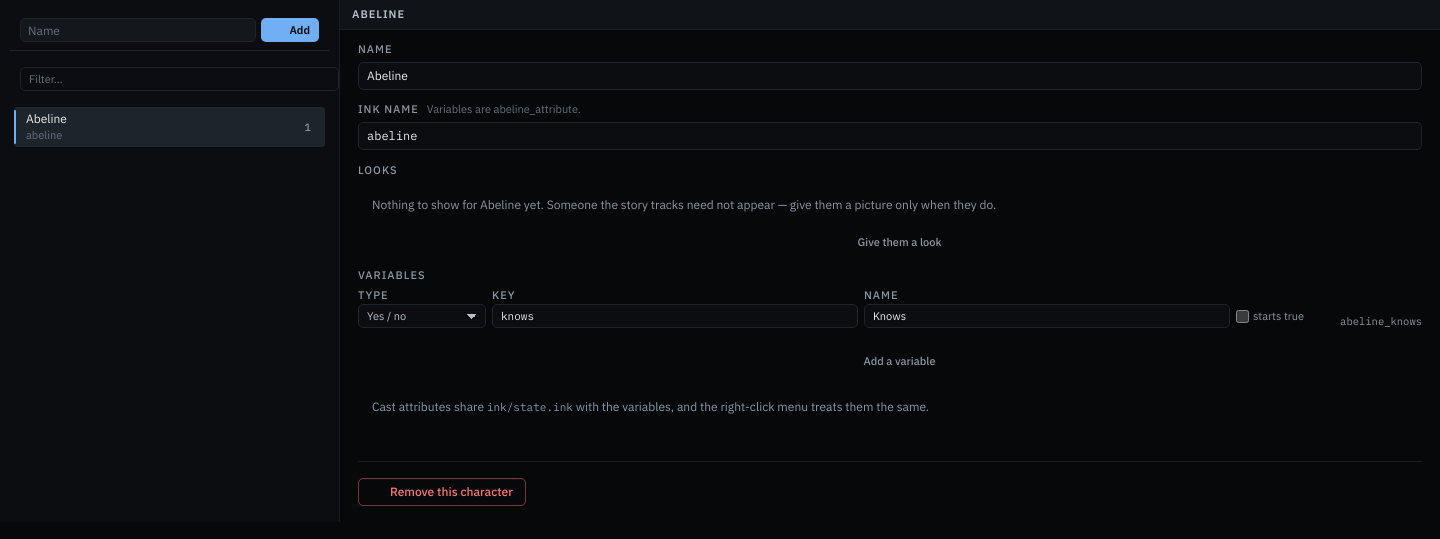
Test: CastPanel › shows the ink variable each attribute becomes, and follows a rename
Replace the text in the field showing "abeline" with "wren" at (890, 136), box x1=358 y1=122 x2=1422 y2=150
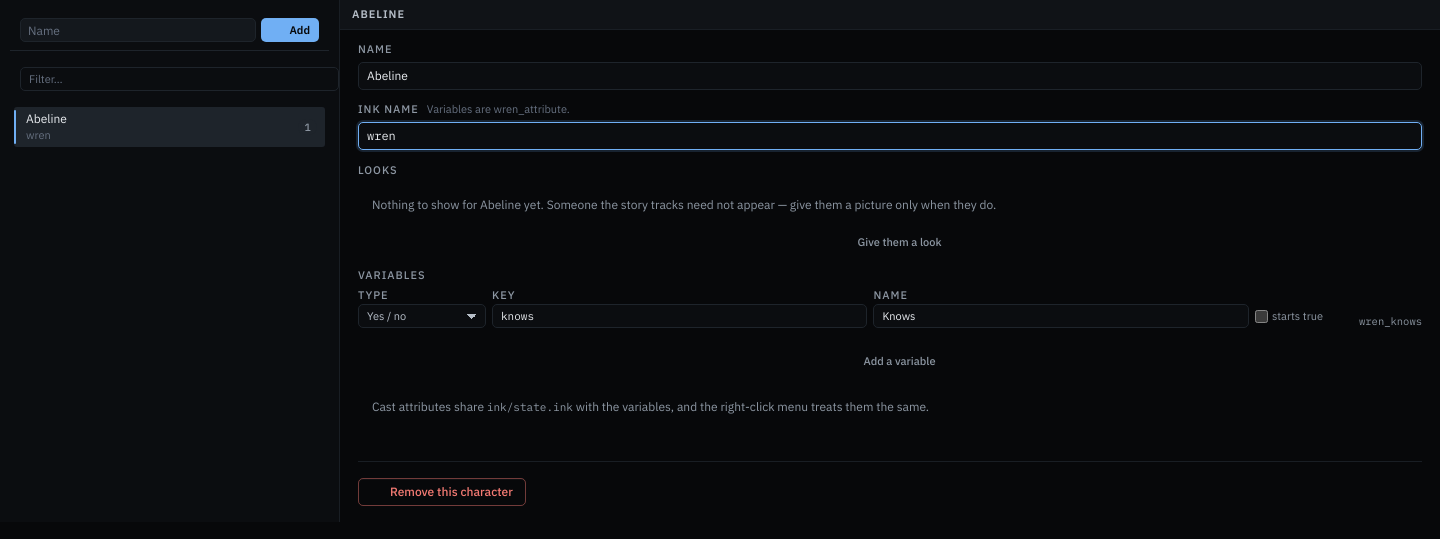
Result: the text "Variables are wren_attribute." is shown at x1=427 y1=102 x2=570 y2=117
